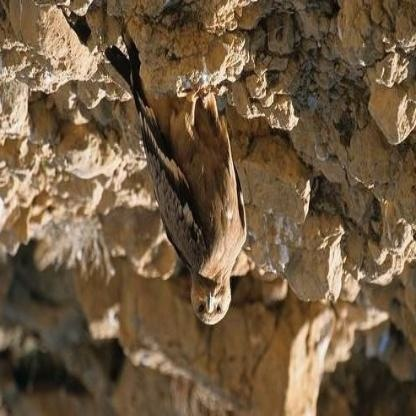Owl: (129, 80, 247, 324)
